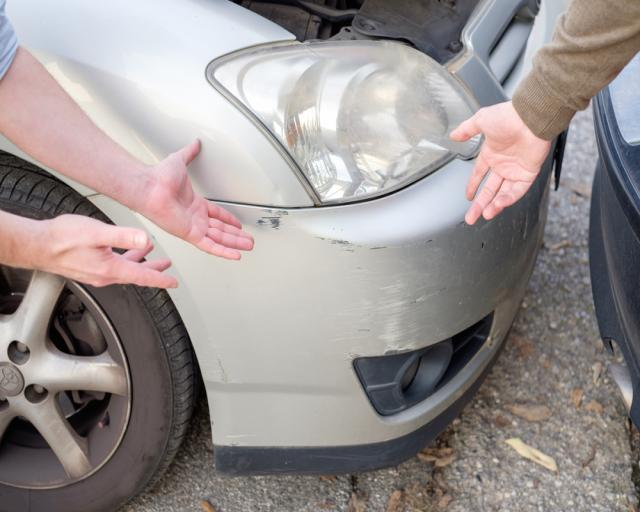scratch: (258, 208, 457, 362)
